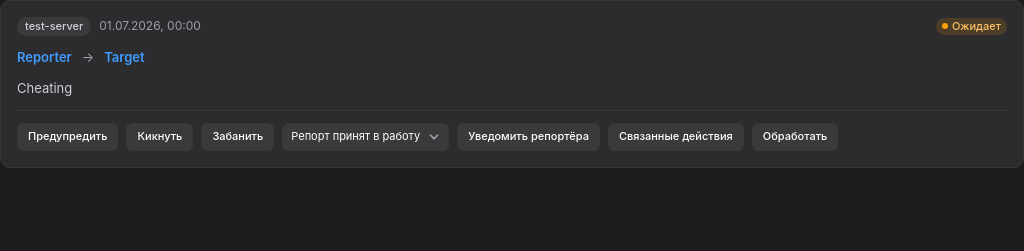
Scenario: ReportCard › notifies the reporter with the chosen template and reports success
Select "Репорт рассмотрен" in the dropdown named "Шаблон уведомления" at (366, 136), box [282,122,449,150]
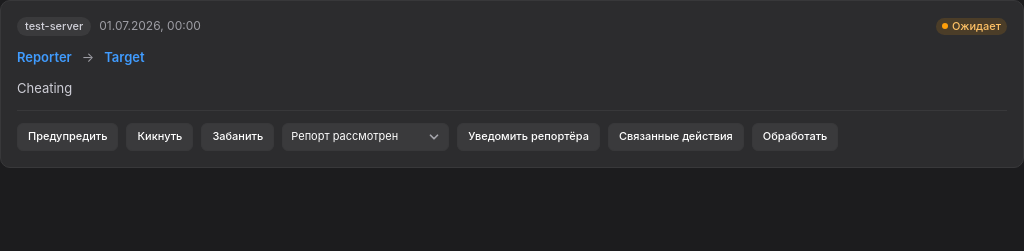
Click the button "Уведомить репортёра" at (529, 136), box [457,122,600,150]
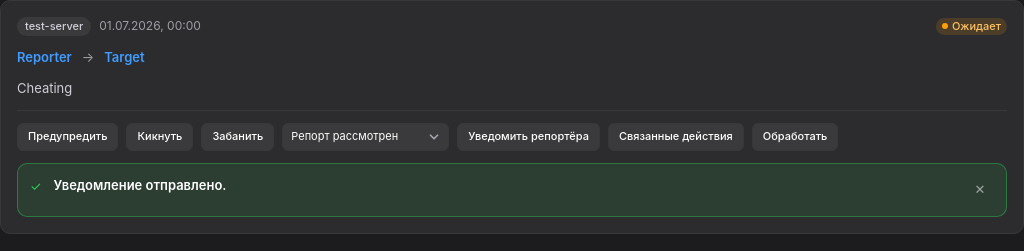
Expected: the text "Уведомление отправлено." is shown, [54,176,226,192]
